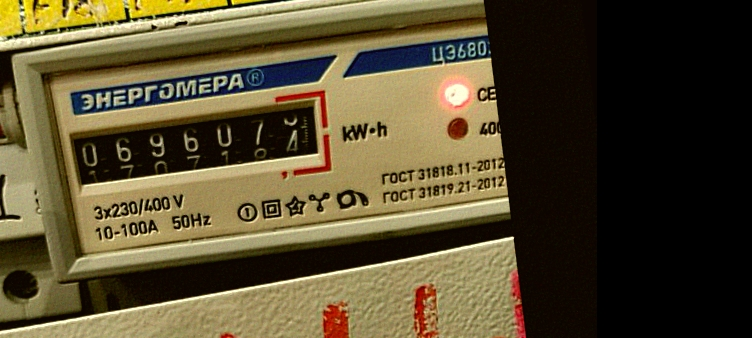0: (213, 119, 235, 151), (80, 140, 100, 169)
4: (281, 125, 302, 156)
6: (113, 134, 134, 164), (181, 124, 201, 155)
7: (247, 115, 270, 148)
9: (146, 130, 167, 160)
screen: (55, 86, 340, 204)
